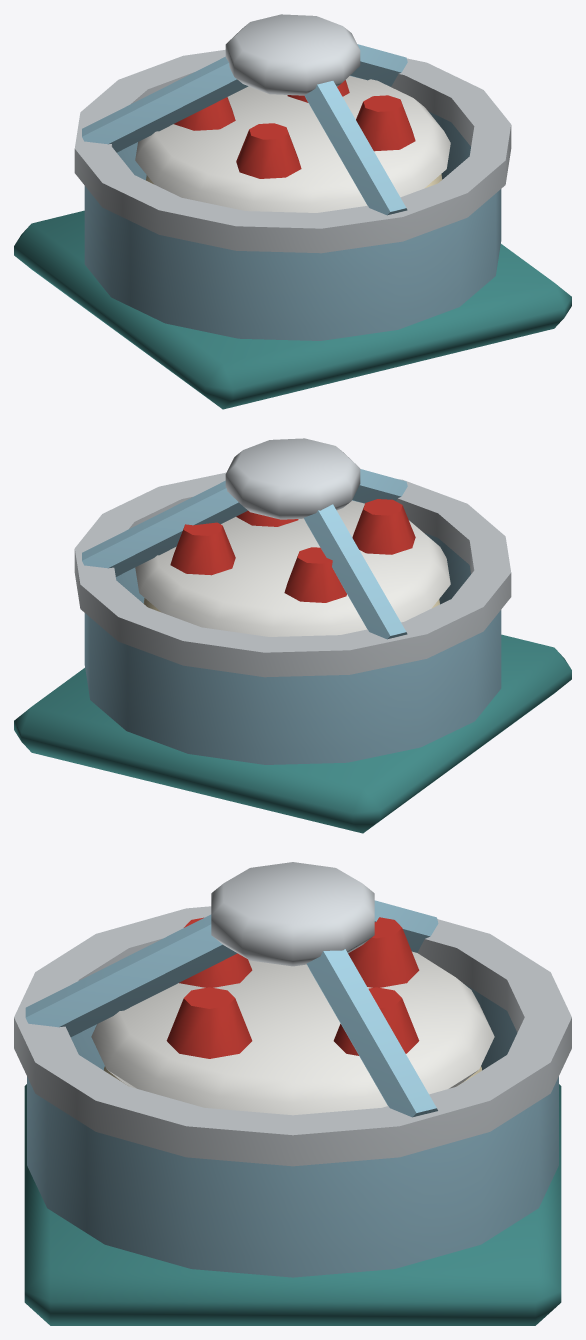
File: Cake_Box_01.glb
The picture shows the model from 3 angles, top to bottom: view 1: azimuth 30°, elevation 25°; view 2: azimuth 150°, elevation 25°; view 3: azimuth 270°, elevation 25°; orthographic projection. The views are drawn at different scales.
Visible parts, largest first — view 1: SM_Cake_Box_01; view 2: SM_Cake_Box_01; view 3: SM_Cake_Box_01.
Part boxes in pixels (<box>): SM_Cake_Box_01: <box>14,14,571,409</box>; SM_Cake_Box_01: <box>14,438,571,833</box>; SM_Cake_Box_01: <box>14,862,571,1325</box>.
Bounding box in the file's own units: 0.26 × 0.17 × 0.26.
Materials: 1 (1 with a texture image).
